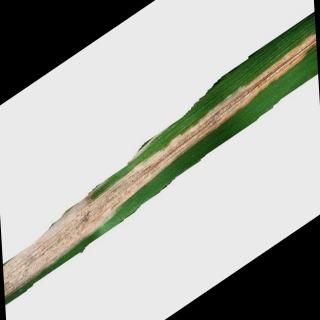Hawar-Daun: (2, 29, 316, 304)
